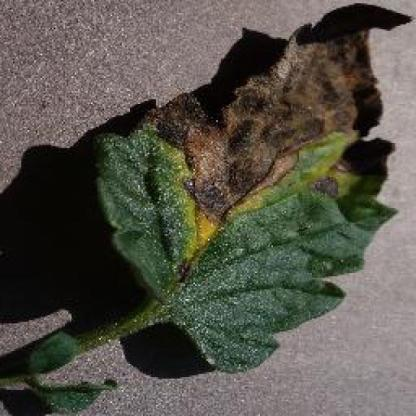Tomato_Blight: (100, 9, 407, 372)
